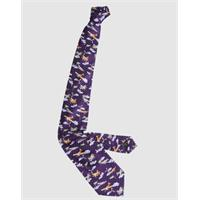tie: (58, 6, 137, 196)
